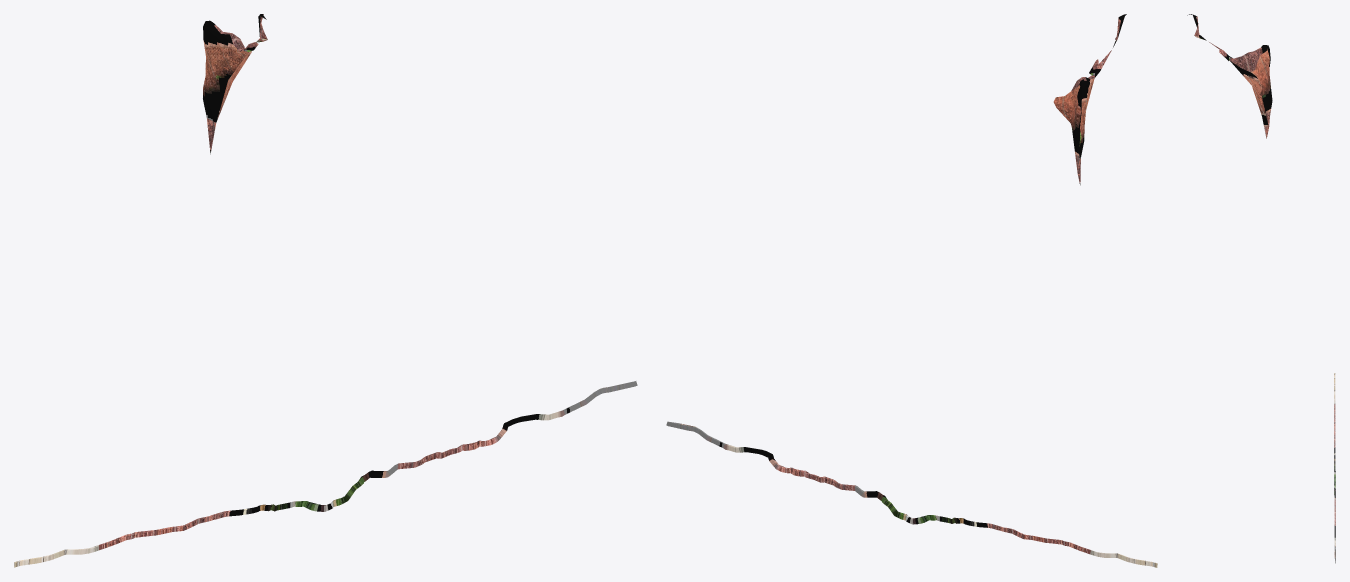
3 renders of one model, left to right at view 1: azimuth 30°, elevation 25°; view 2: azimuth 150°, elevation 25°; view 3: azimuth 270°, elevation 25°, orthographic. The views are drawn at different scales.
Parts seen in each view (by area): view 1: node_38; view 2: node_38; view 3: node_38.
Boxes of the visible parts, x1,y1,x2,y2 form: node_38: (14, 14, 637, 567); node_38: (666, 14, 1157, 567); node_38: (1187, 14, 1335, 563).
Bounding box in the file's own units: 8.92 × 8.38 × 2.67.
Materials: 1 (1 with a texture image).
